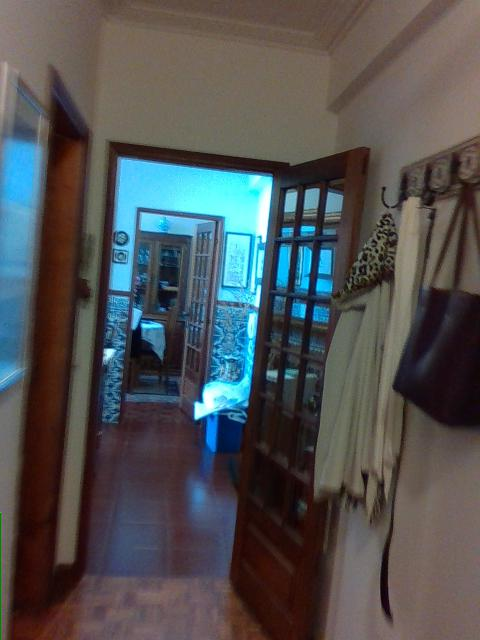door: (229, 137, 371, 640), (178, 221, 216, 424)
